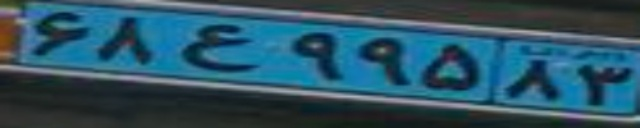3: (573, 63, 632, 105)
5: (420, 43, 480, 90)
6: (29, 10, 88, 57)
8: (98, 15, 152, 66), (501, 58, 561, 100)
9: (353, 36, 414, 85), (287, 30, 345, 81)
ain: (175, 22, 259, 72)
